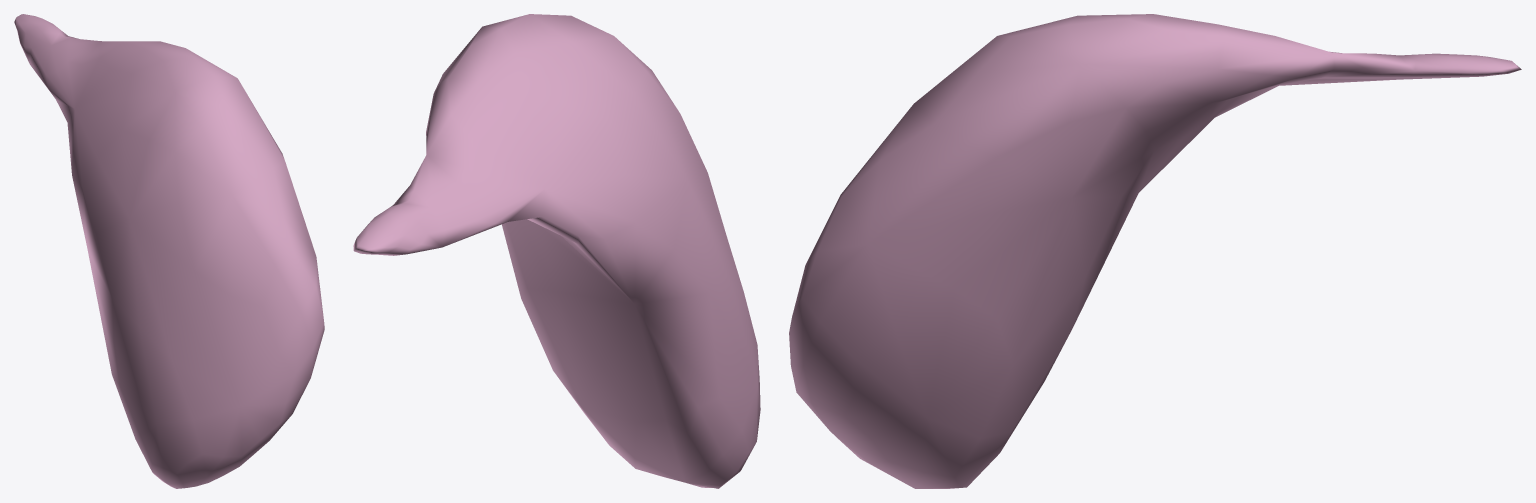
3 views of the same model, side by side, from view 1: azimuth 30°, elevation 25°; view 2: azimuth 150°, elevation 25°; view 3: azimuth 270°, elevation 25° (orthographic). The views are drawn at different scales.
Visible parts, largest first — view 1: 左侧附睾; view 2: 左侧附睾; view 3: 左侧附睾.
Part boxes in pixels (box(x1,y1,x2,y2)): 左侧附睾: box(14, 14, 324, 488); 左侧附睾: box(353, 14, 760, 488); 左侧附睾: box(789, 14, 1521, 488).
Size of the model in its own units: 0.0132 by 0.0282 by 0.0364.
